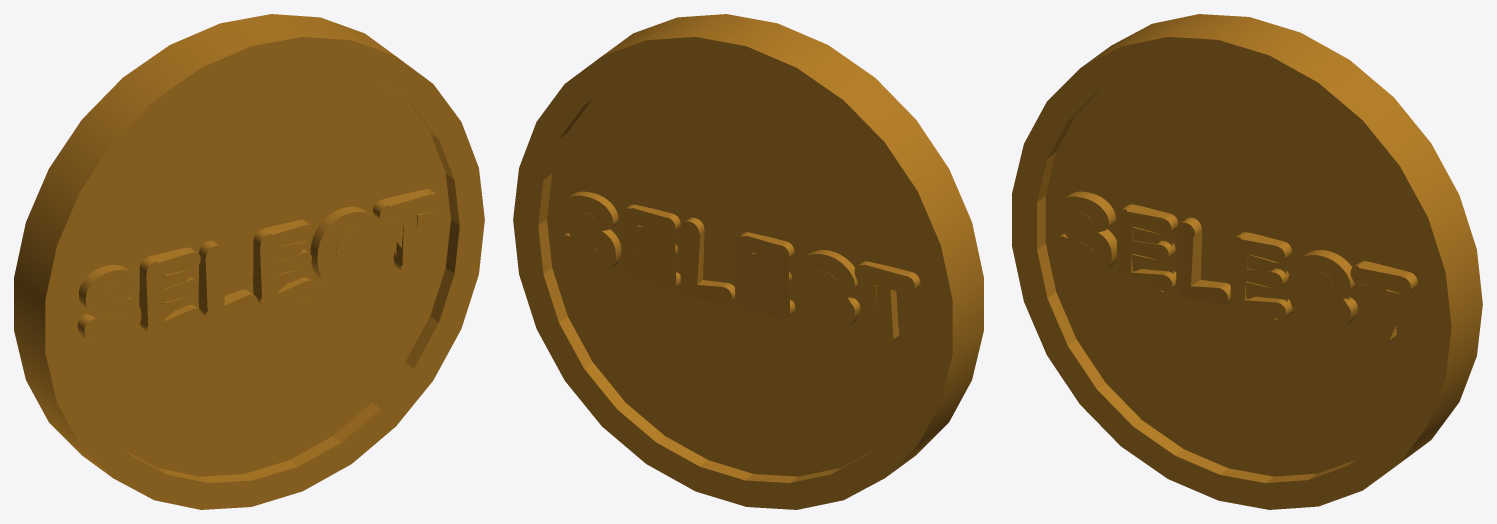
The model's file is coin_select_RE.FBX.
3 views of the same model, side by side, from view 1: azimuth 30°, elevation 25°; view 2: azimuth 150°, elevation 25°; view 3: azimuth 330°, elevation 25° (orthographic).
Visible parts, largest first — view 1: Cylinder001; view 2: Cylinder001; view 3: Cylinder001.
Part boxes in pixels (x1,y1,x2,y2): Cylinder001: [14, 14, 484, 509]; Cylinder001: [513, 14, 983, 509]; Cylinder001: [1012, 14, 1482, 509].
Size of the model in its own units: 63.1 by 63.21 by 7.81.
